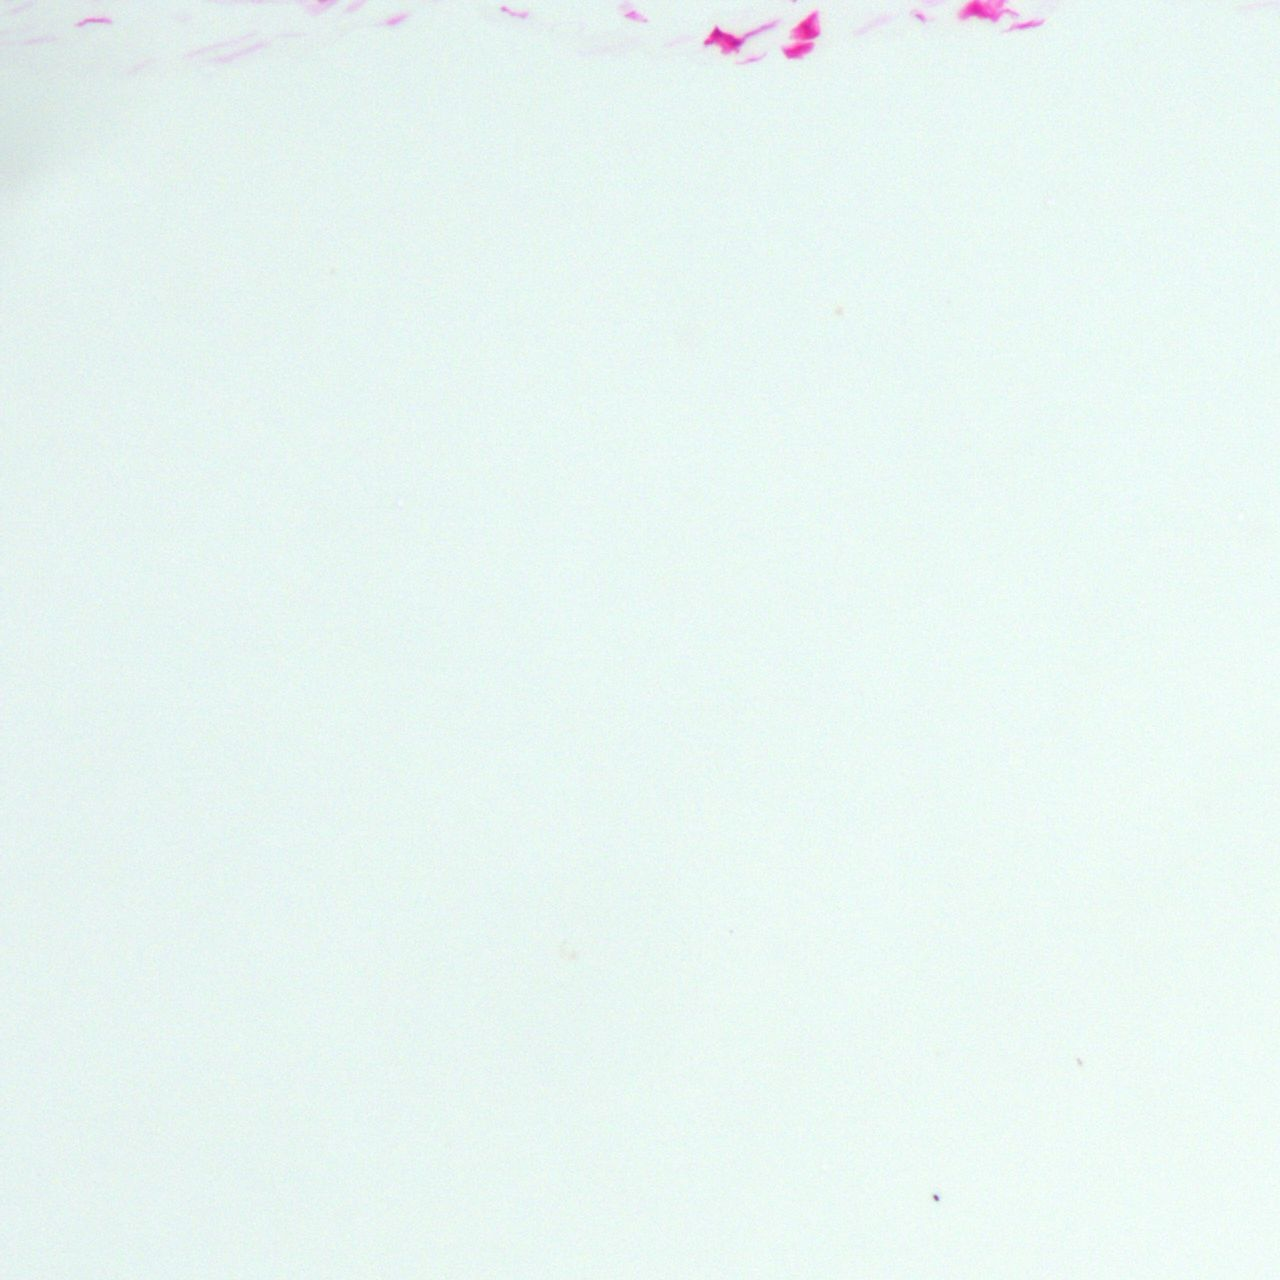dust: (931, 1191, 938, 1203), (1075, 1058, 1082, 1070)
nucleus-FG: (702, 26, 748, 49), (795, 14, 821, 38), (783, 43, 818, 57)
